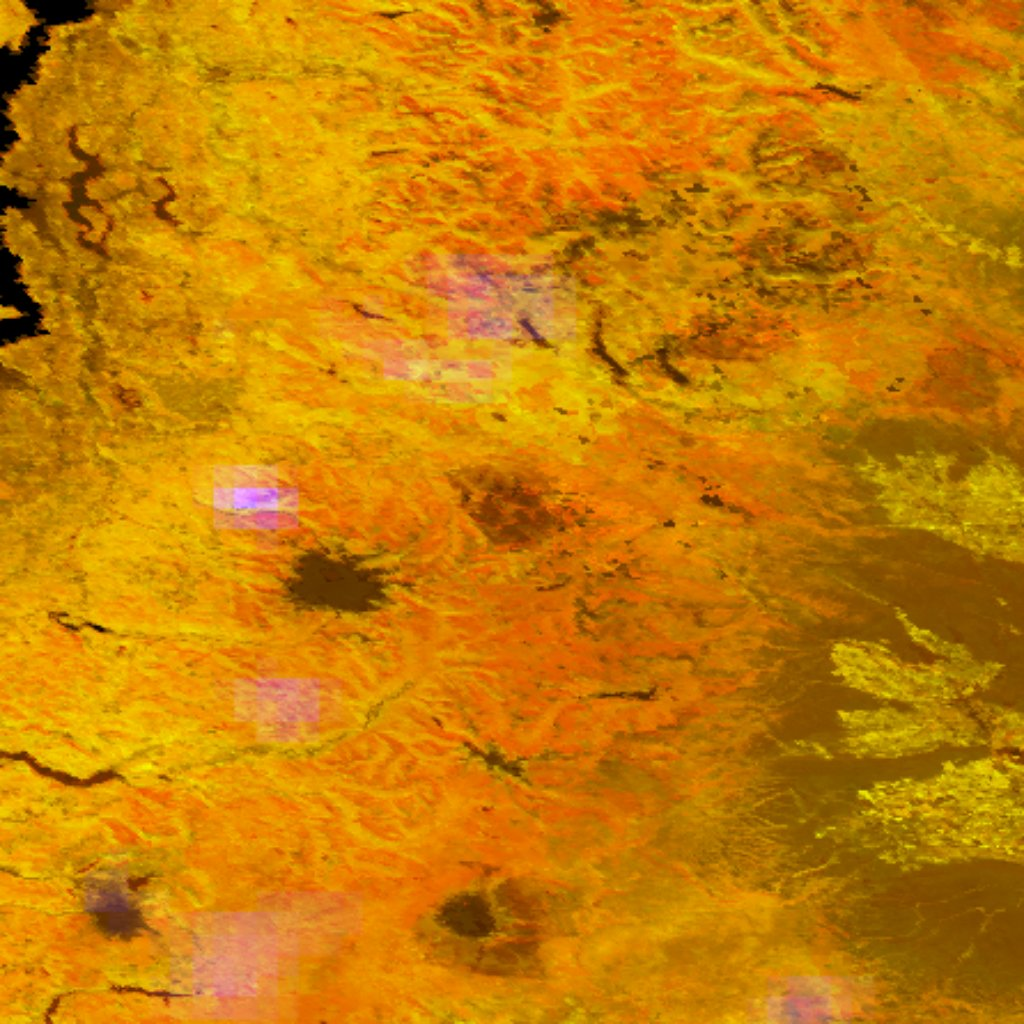fire: (0, 0, 1024, 1024), (0, 0, 40, 53), (0, 305, 23, 321)
